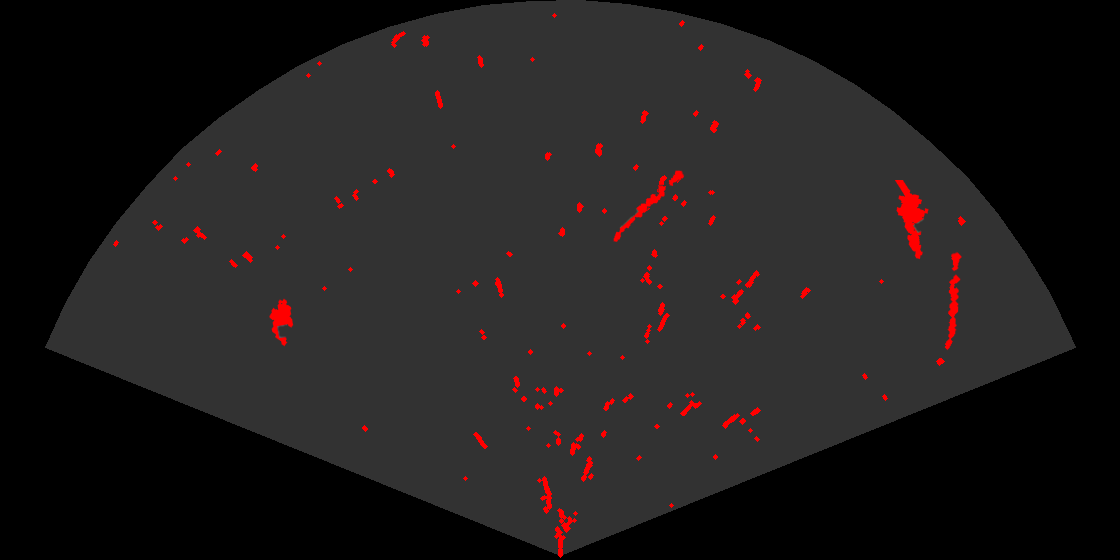AUV: (268, 297, 295, 348)
chain: (612, 169, 686, 244), (943, 250, 963, 351)
frogman: (893, 180, 930, 261)
